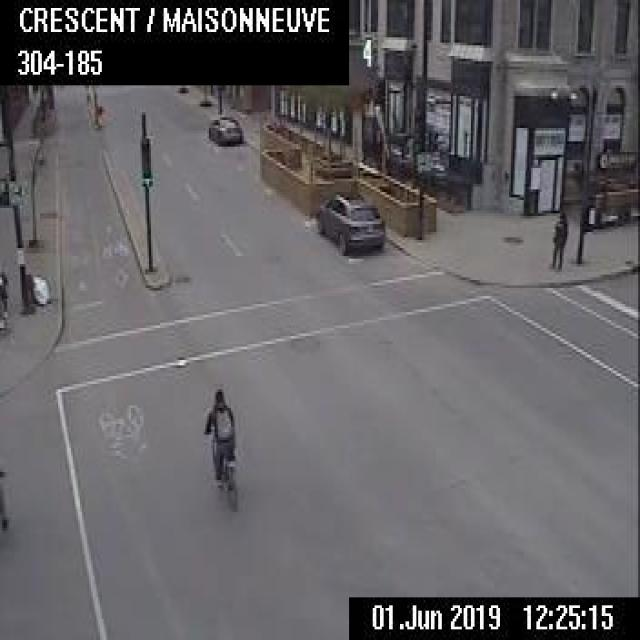cyclist: (202, 384, 236, 515)
pedestrian: (548, 208, 566, 272)
vehicle: (312, 192, 383, 256), (205, 112, 242, 144)
